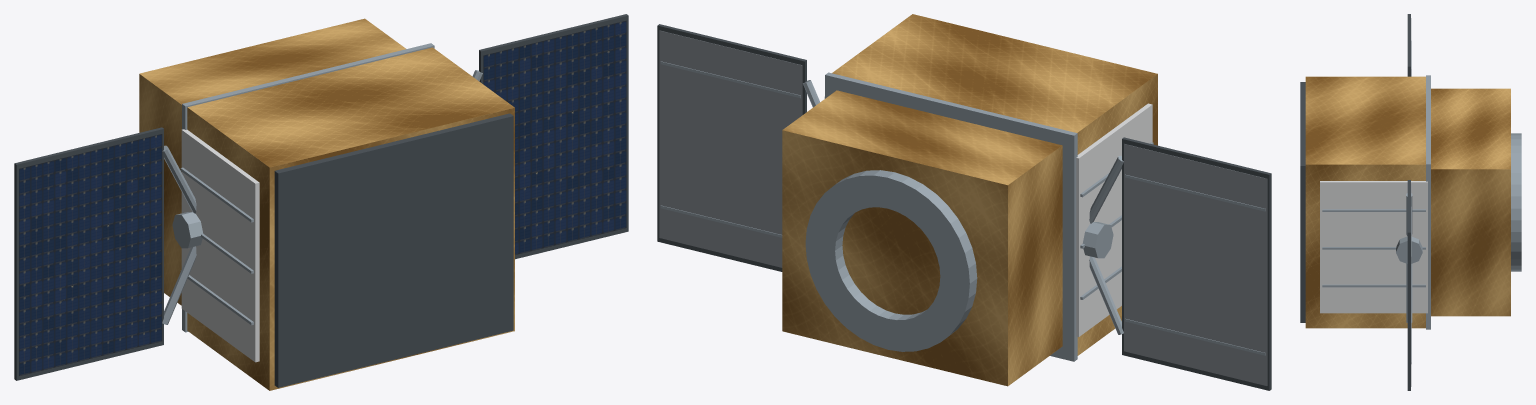
File: ref-geostar-1-40099.glb
The picture shows the model from 3 angles, left to right: view 1: azimuth 30°, elevation 25°; view 2: azimuth 150°, elevation 25°; view 3: azimuth 270°, elevation 25°; orthographic projection. The views are drawn at different scales.
Parts seen in each view (by area): view 1: Solar cell panel (×2), Earth-facing deck, Payload module, Service module, Radiator face, Solar panel frame (×2), Module interface, Array yoke (×2), Array drive; view 2: Rear array substrate (×2), Service module, Payload module, Launch adapter ring, Module interface, Radiator face, Solar panel frame (×2), Array yoke (×2), Array drive; view 3: Service module, Payload module, Radiator face, Launch adapter ring, Earth-facing deck, Solar panel frame (×2), Module interface, Radiator seam (×3), Array drive, Array yoke, Rear array substrate.
Boxes of the visible parts, x1=… form: Solar cell panel (×2): x1=19, y1=20, x2=626, y2=375; Earth-facing deck: x1=274, y1=113, x2=513, y2=387; Payload module: x1=187, y1=47, x2=514, y2=390; Service module: x1=139, y1=18, x2=405, y2=305; Radiator face: x1=181, y1=129, x2=259, y2=362; Solar panel frame (×2): x1=14, y1=14, x2=628, y2=380; Module interface: x1=182, y1=43, x2=434, y2=332; Array yoke (×2): x1=162, y1=145, x2=196, y2=324; Array drive: x1=172, y1=212, x2=203, y2=248; Rear array substrate (×2): x1=659, y1=30, x2=1267, y2=385; Service module: x1=782, y1=90, x2=1062, y2=386; Payload module: x1=832, y1=14, x2=1157, y2=355; Launch adapter ring: x1=805, y1=170, x2=977, y2=351; Module interface: x1=825, y1=72, x2=1077, y2=361; Radiator face: x1=1076, y1=103, x2=1152, y2=336; Solar panel frame (×2): x1=657, y1=24, x2=1271, y2=390; Array yoke (×2): x1=1089, y1=155, x2=1123, y2=334; Array drive: x1=1082, y1=222, x2=1113, y2=258; Service module: x1=1431, y1=88, x2=1510, y2=316; Payload module: x1=1305, y1=76, x2=1425, y2=328; Radiator face: x1=1320, y1=181, x2=1427, y2=313; Launch adapter ring: x1=1511, y1=133, x2=1521, y2=271; Earth-facing deck: x1=1300, y1=82, x2=1305, y2=322; Solar panel frame (×2): x1=1407, y1=14, x2=1410, y2=390; Module interface: x1=1426, y1=75, x2=1430, y2=329; Radiator seam (×3): x1=1322, y1=209, x2=1425, y2=287; Array drive: x1=1396, y1=236, x2=1422, y2=263; Array yoke: x1=1406, y1=263, x2=1412, y2=322; Rear array substrate: x1=1411, y1=184, x2=1411, y2=386.
Size of the model in its own units: 4.99 by 1.76 by 2.14.
Materials: 6 (2 with a texture image).
